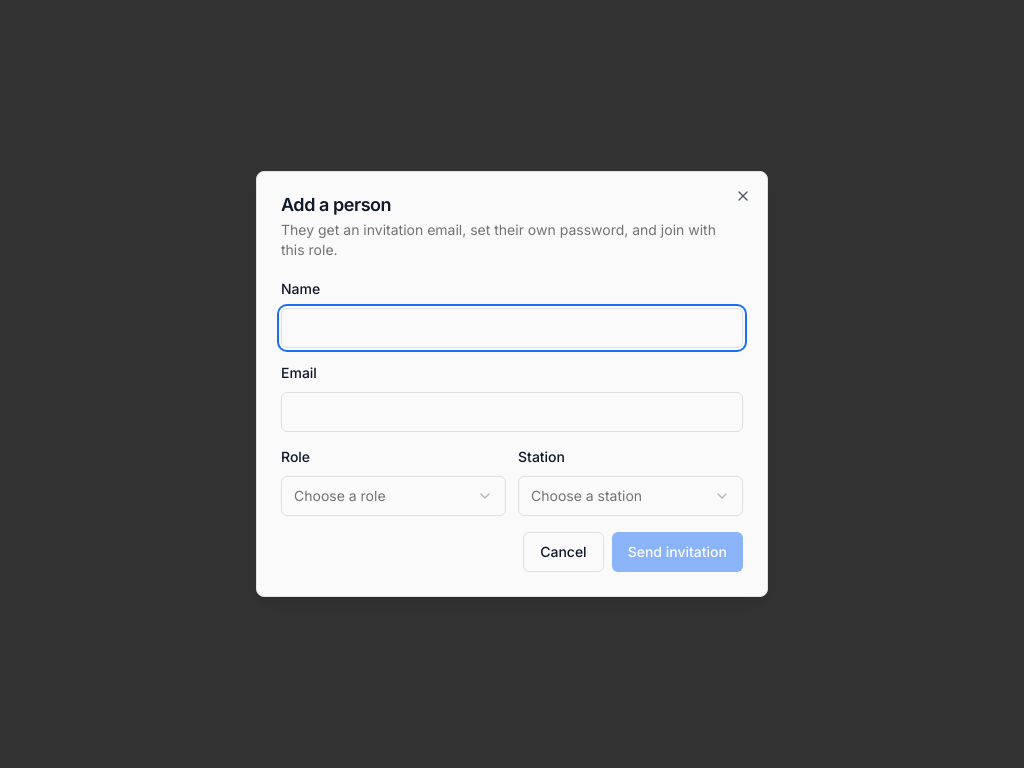
Test case: adding a person › does not offer the Owner role, and cannot be sent without a name, a valid email and a role
Expected: the button "Send invitation" is disabled, [612,532,743,572]
Click the dropdown labelled "role" at {"x": 394, "y": 496}, box [281,476,506,516]
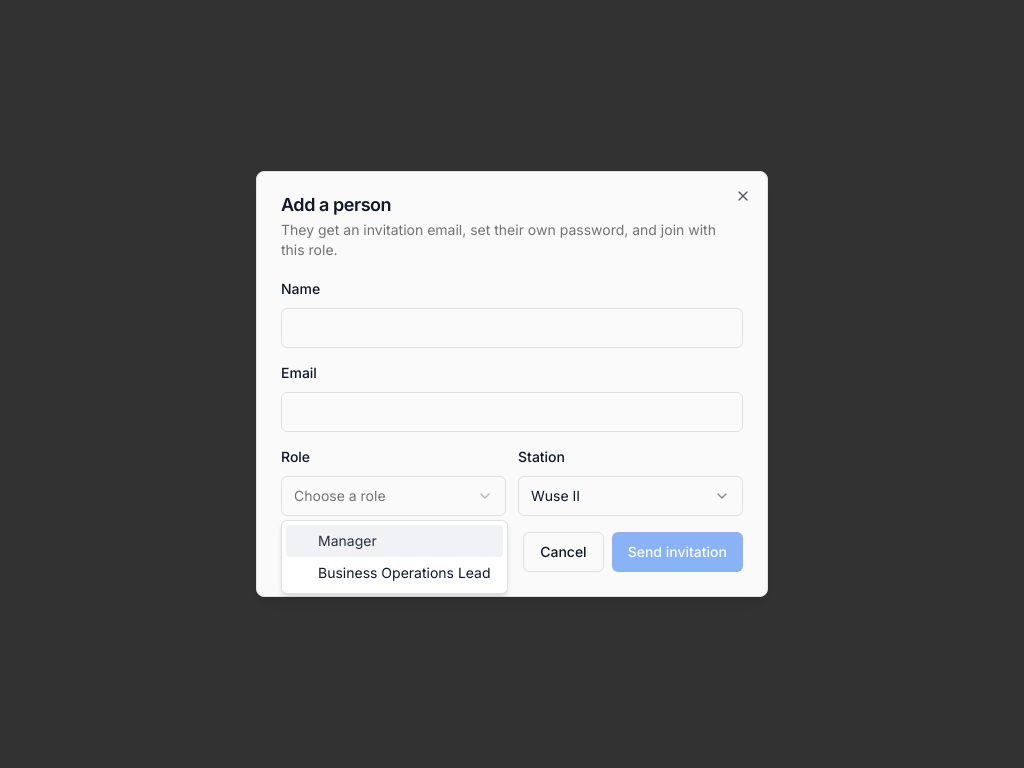
Expected: the option "Business Operations Lead" is shown, [318,564,491,581]
Click the option "Manager" at {"x": 394, "y": 541}, box [286,525,503,557]
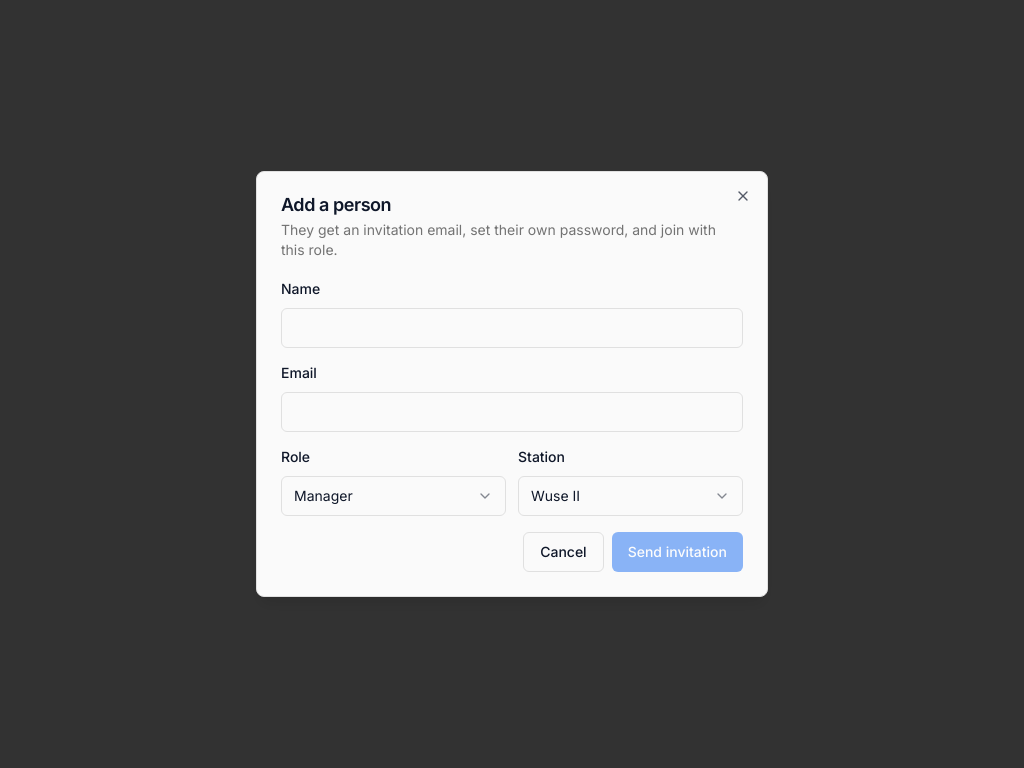
Type "not-an-email" into the field labelled "Email" at {"x": 512, "y": 412}, box [281,392,743,432]
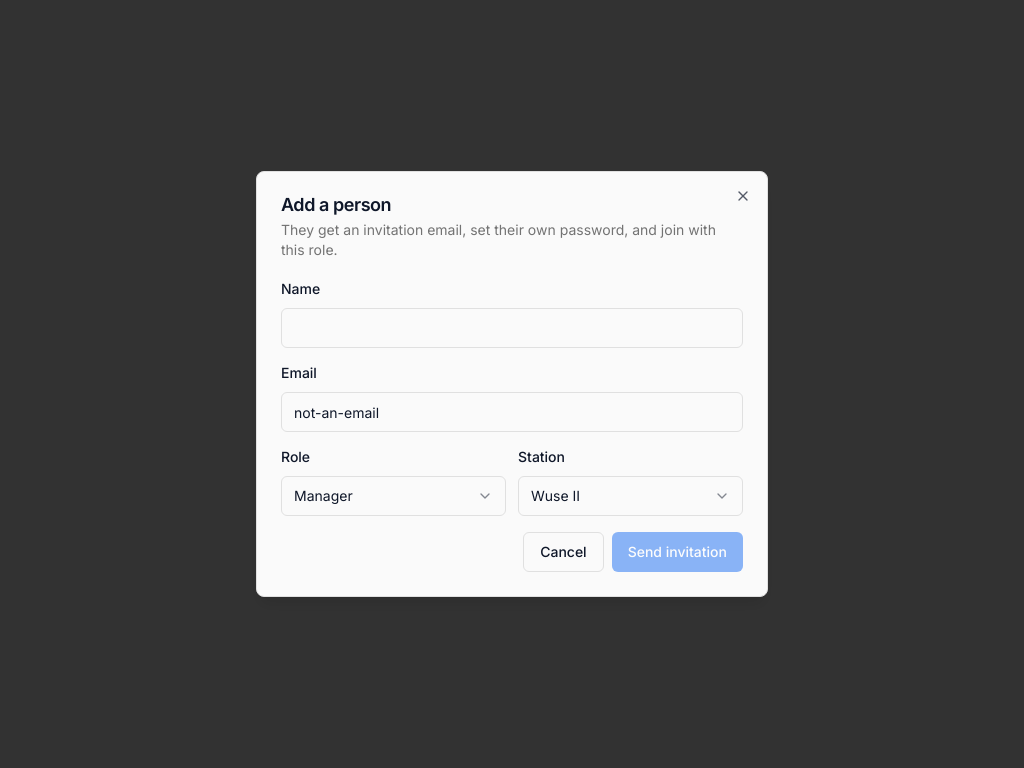
Expected: the button "Send invitation" is disabled, [612,532,743,572]
Replace the text in the field labelled "Email" with "ok@example.com" at {"x": 512, "y": 412}, box [281,392,743,432]
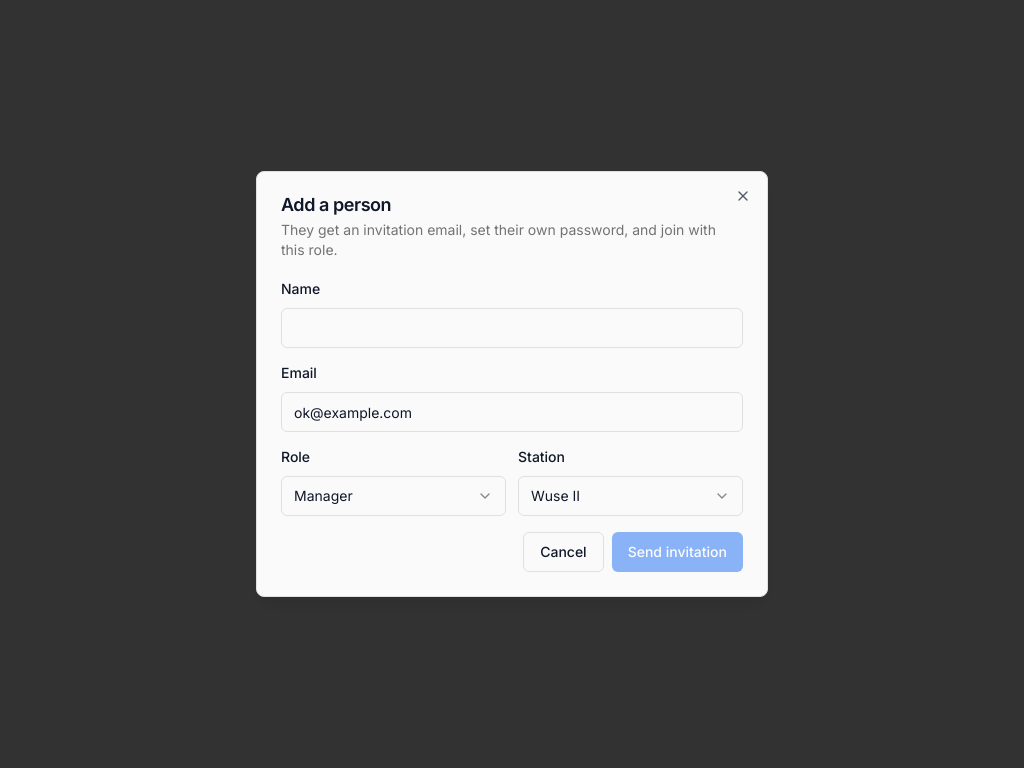
Expected: the button "Send invitation" is disabled, [612,532,743,572]
Type "Ok Person" into the field labelled "Name" at {"x": 512, "y": 328}, box [281,308,743,348]
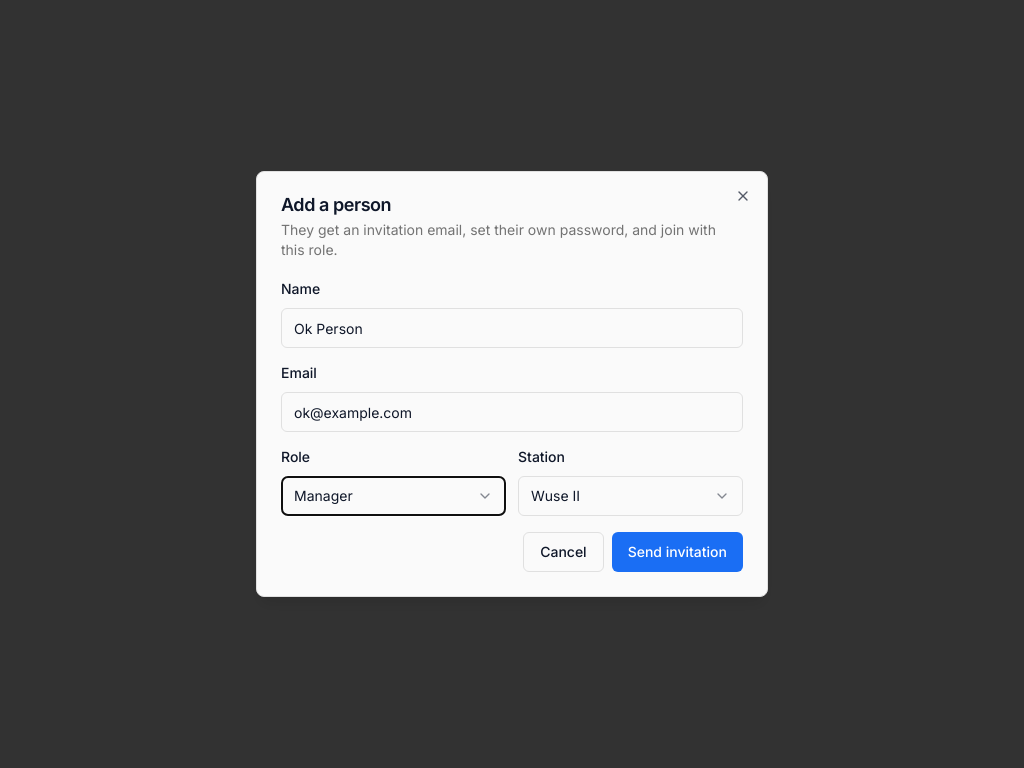
Expected: the button "Send invitation" is enabled, [612,532,743,572]
